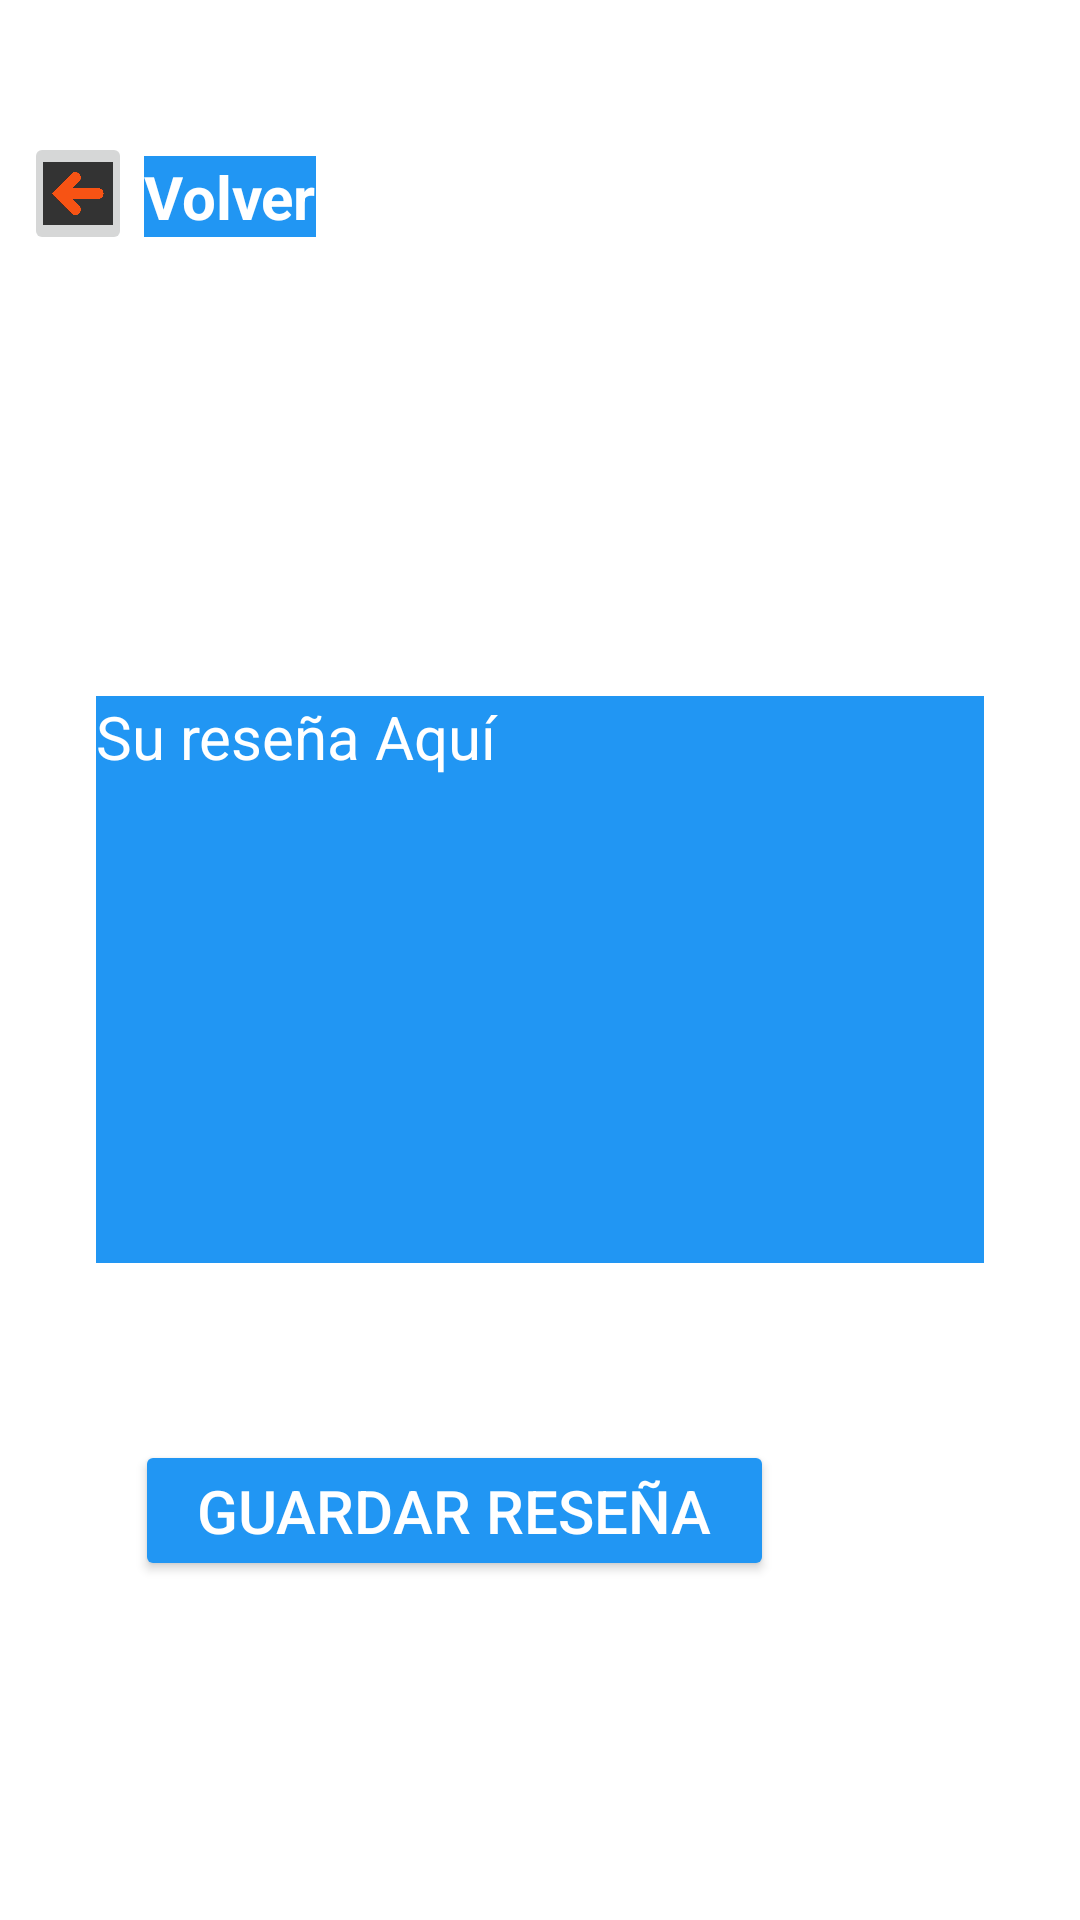

Named icons in this screenshot (1080w x 1920h) and their centers, point (x, y):
arrowleft: point (78, 193)
